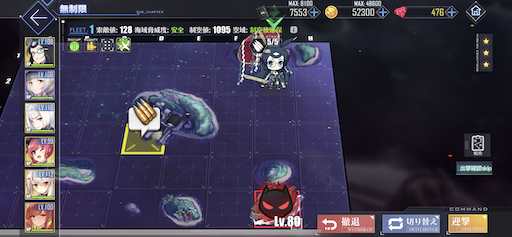boss: (253, 187, 302, 229)
